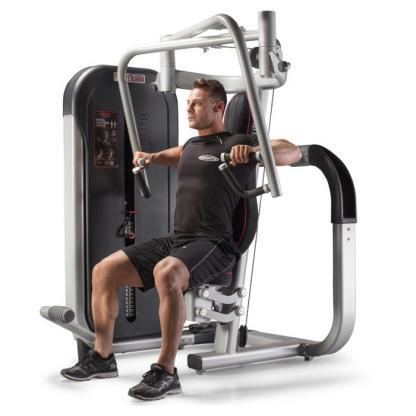Chest Press machine: (34, 7, 359, 404)
